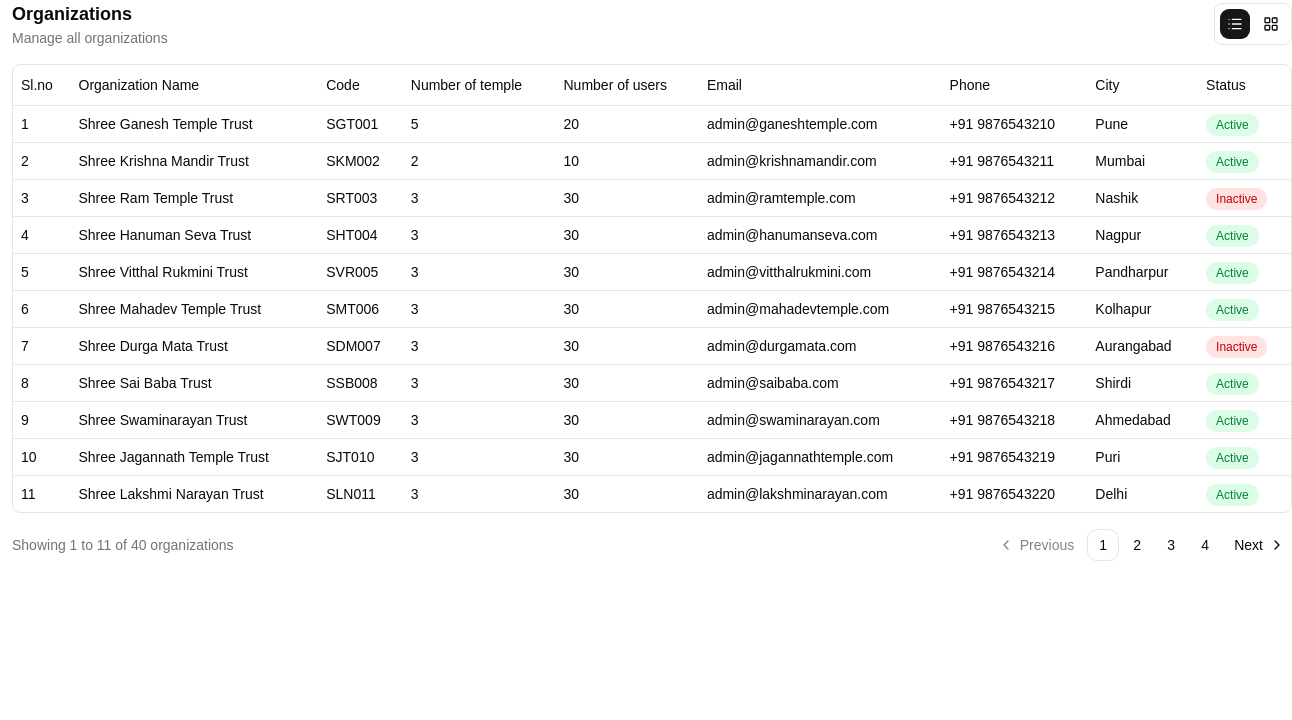
Test: OrganizationsTable › changes to the next page
Expected: the text "Shree Ganesh Temple Trust" is shown, [70,105,318,142]
Click the button with aria-label "Go to next page": (1260, 544) [1234,536,1285,552]
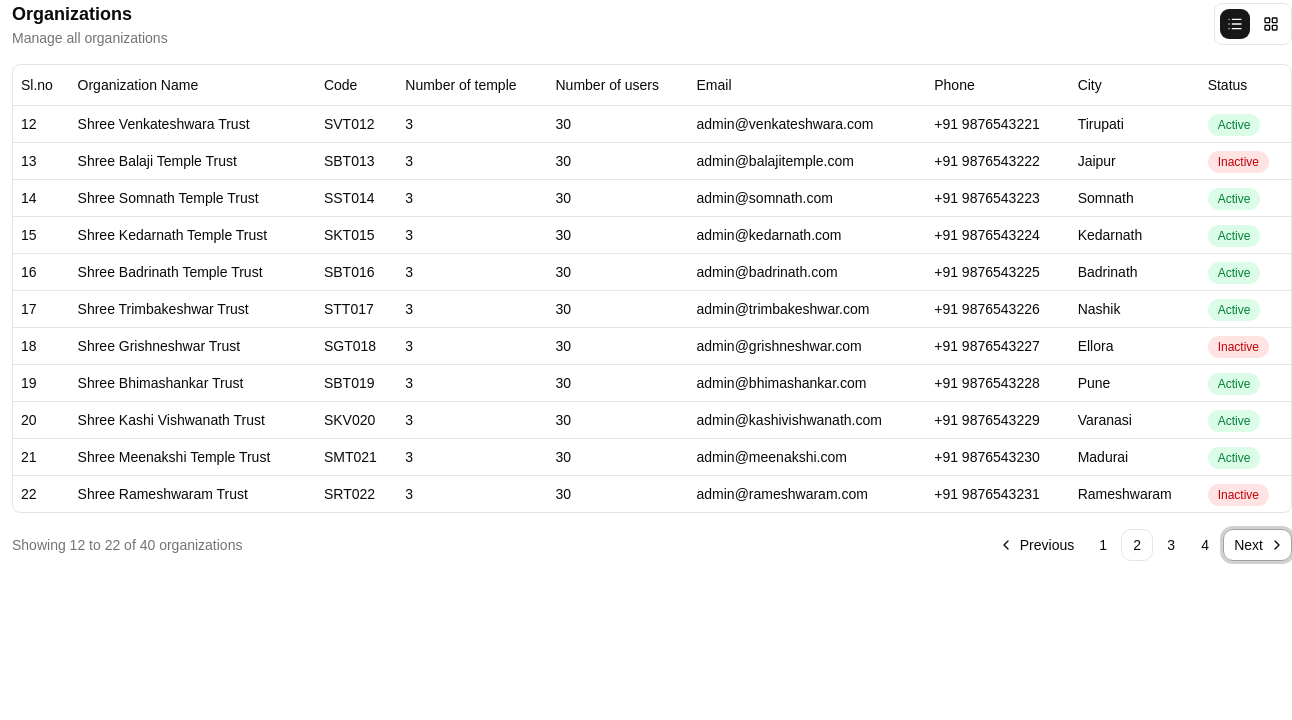
Expected: the text "Showing 12 to 22 of 40 organizations" is shown, [12,534,242,554]
Expected: the text "Shree Venkateshwara Trust" is shown, [70,105,316,142]
Expected: the text "Shree Ganesh Temple Trust" is gone
